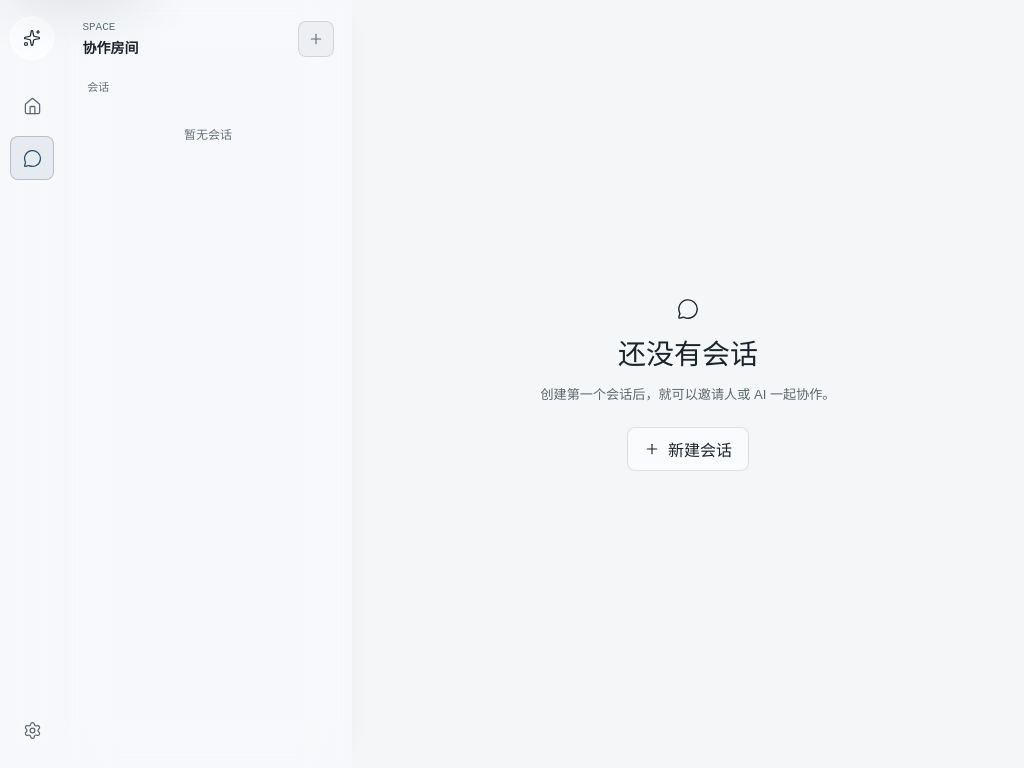
Test case: CollaborationRoom › keeps an empty workspace recoverable instead of showing a connection error
Check: the heading "还没有会话" is shown, box [618,332,758,372]
Click the button with aria-label "新建第一个会话" at (688, 448), box [627,426,749,470]
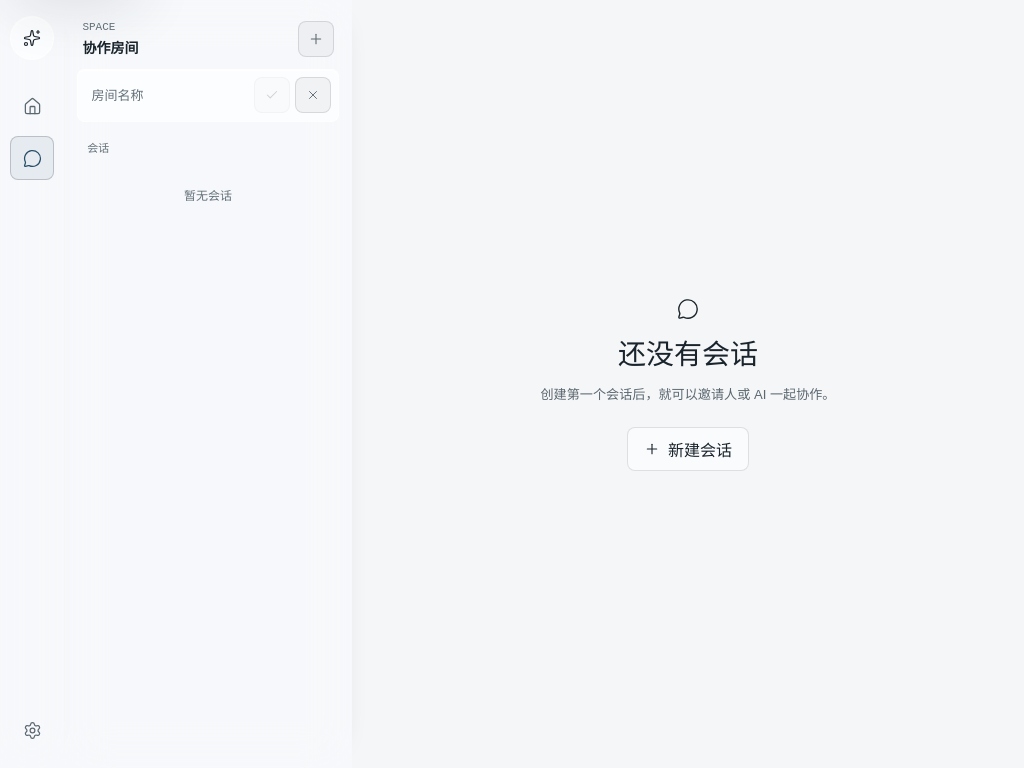
Check: the field labelled "房间名称" is shown, box [85,77,249,113]
